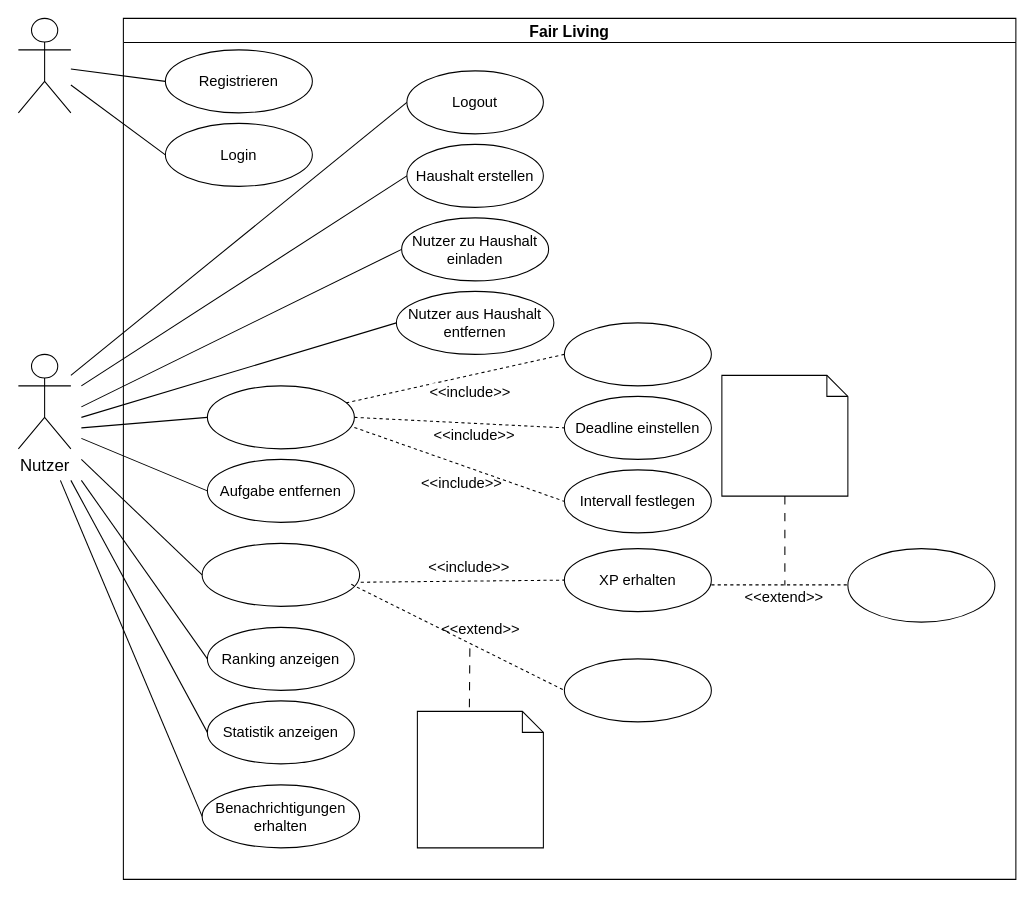
This 1034x898 diagram has some shape labels left out. Here are the shapes that lost their labels. From the top down, the centre of each, then its label:
At (x=44, y=65): "Gast".
At (x=637, y=354): "Schwierigkeit einstellen".
At (x=280, y=417): "Aufgabe erstellen".
At (x=784, y=435): "Condition: Der Nutzer hat genug XP für einen Levelaufstieg gesammelt".
At (x=280, y=574): "Aufgabe als erledigt markieren".
At (x=921, y=585): "Level erhöhen".
At (x=637, y=690): "Streak erhöhen".
At (x=479, y=779): "Condition: Der Nutzer hat die Aufgabe pünktlich erledigt".
